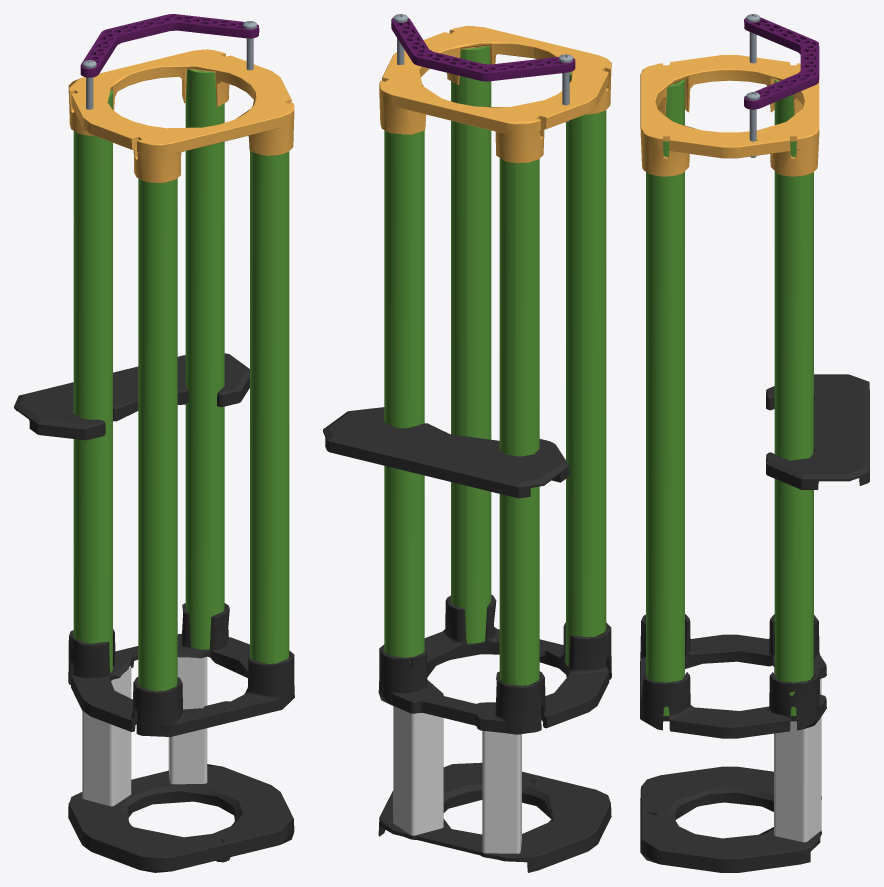
File: flower.glb
The picture shows the model from 3 angles, left to right: view 1: azimuth 30°, elevation 25°; view 2: azimuth 150°, elevation 25°; view 3: azimuth 270°, elevation 25°; orthographic projection. The views are drawn at different scales.
Parts seen in each view (by area): view 1: flower; view 2: flower; view 3: flower.
Boxes of the visible parts, x1,y1,x2,y2 form: flower: [14, 14, 294, 872]; flower: [323, 14, 611, 872]; flower: [640, 14, 869, 872].
Bounding box in the file's own units: 0.1694 × 0.5838 × 0.1566.
